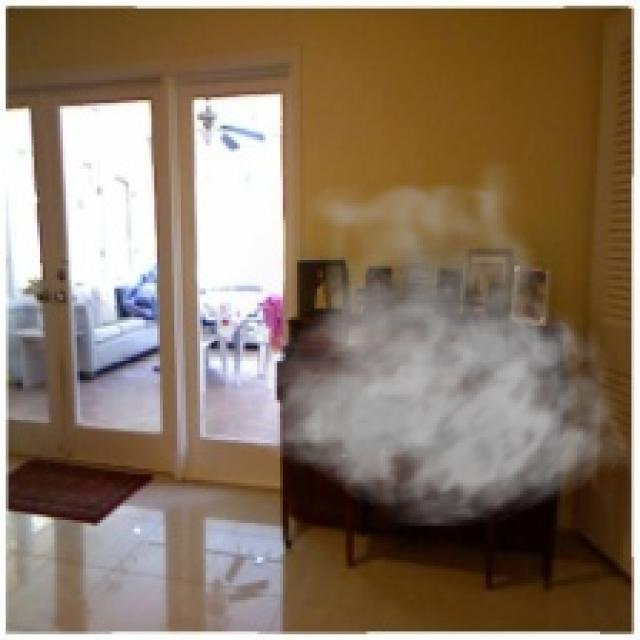Smoke: (237, 148, 632, 528)
